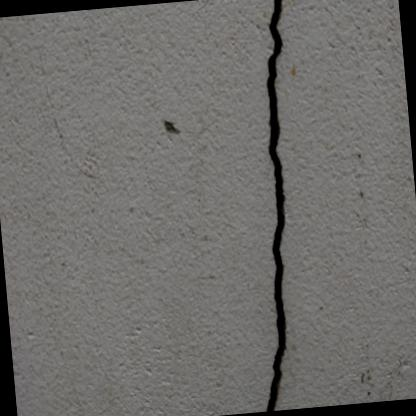crack: (266, 0, 287, 412)
